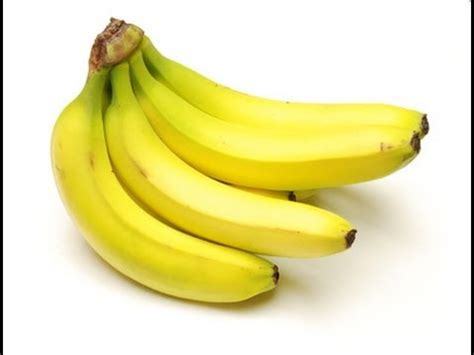banana: (53, 81, 281, 311), (103, 70, 358, 260), (124, 48, 424, 192), (135, 34, 430, 141)
